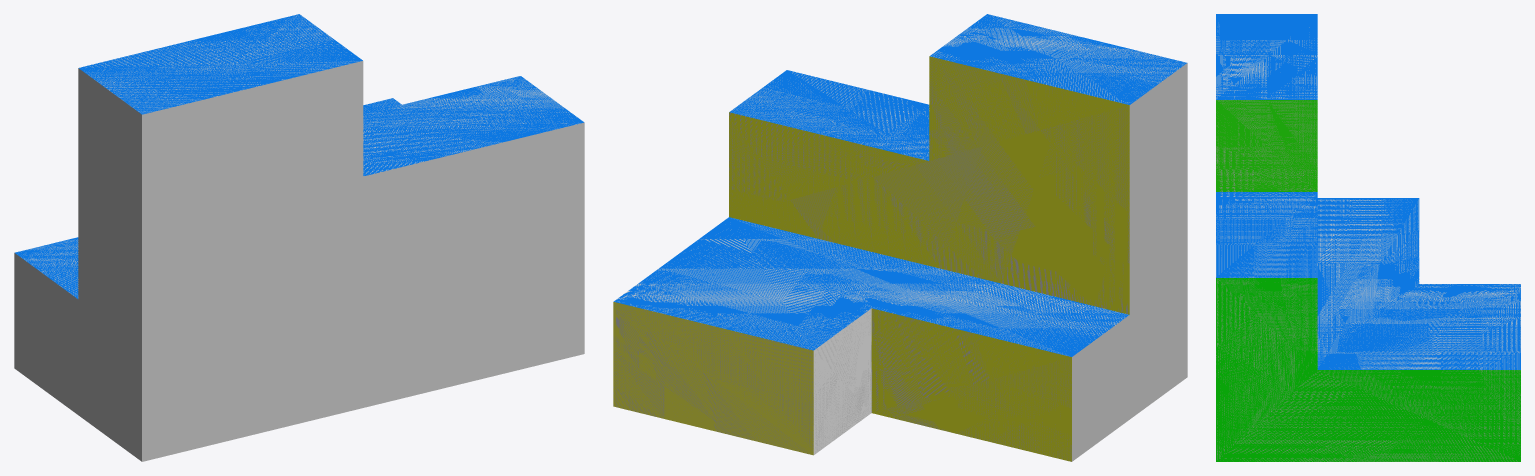
File: Figura6.dae
The picture shows the model from 3 angles, left to right: view 1: azimuth 30°, elevation 25°; view 2: azimuth 150°, elevation 25°; view 3: azimuth 270°, elevation 25°; orthographic projection. The views are drawn at different scales.
Visible parts, largest first — view 1: SketchUp (×4); view 2: SketchUp (×8); view 3: SketchUp (×5).
Boxes of the visible parts, left/top/right/bottom form: SketchUp (×4): left=14, top=14, right=584, bottom=461; SketchUp (×8): left=613, top=14, right=1187, bottom=461; SketchUp (×5): left=1216, top=14, right=1520, bottom=461.
Bounding box in the file's own units: 31.5 × 23.62 × 23.62.
